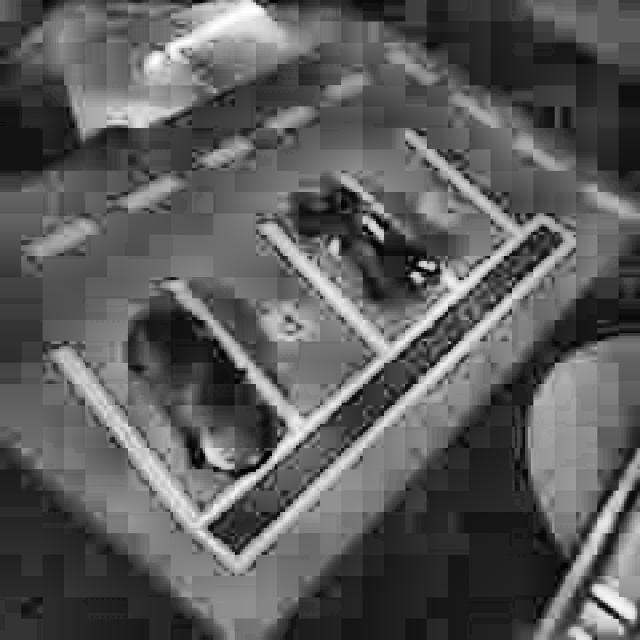car: (111, 288, 288, 494), (285, 169, 446, 319)
